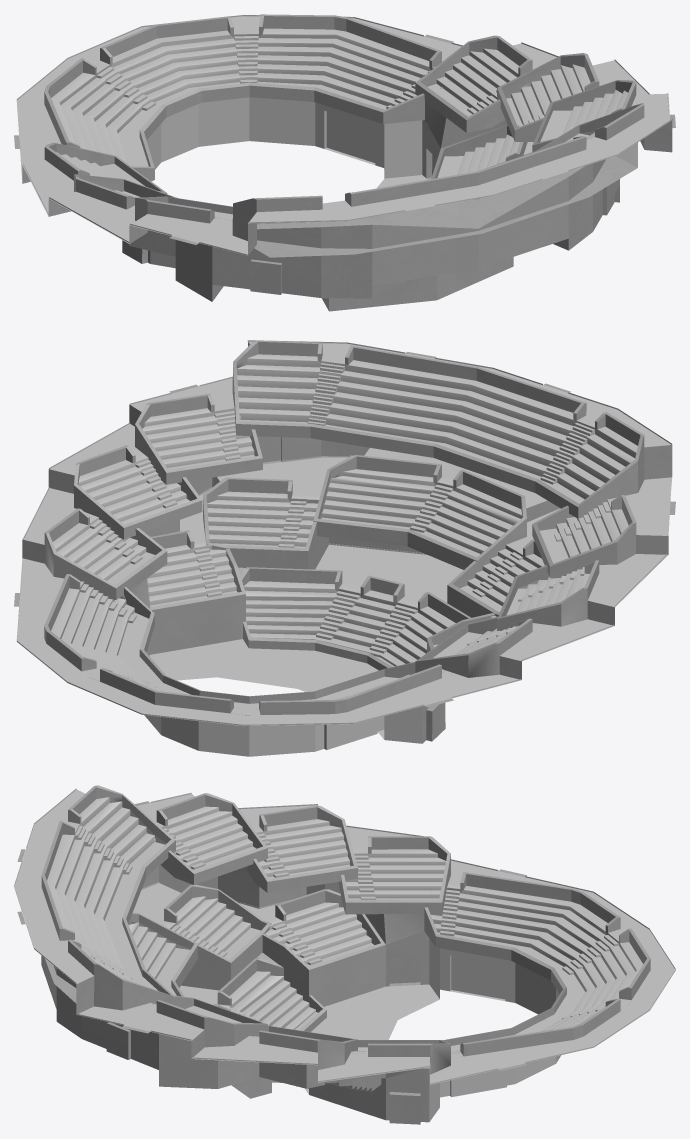
File: SM_SceneMesh_Base_02.fbx
The picture shows the model from 3 angles, top to bottom: view 1: azimuth 30°, elevation 25°; view 2: azimuth 150°, elevation 25°; view 3: azimuth 270°, elevation 25°; orthographic projection. The views are drawn at different scales.
Parts seen in each view (by area): view 1: SM_SceneMesh_Base_02_LOD0; view 2: SM_SceneMesh_Base_02_LOD0; view 3: SM_SceneMesh_Base_02_LOD0.
Part boxes in pixels (x1,y1,x2,y2): SM_SceneMesh_Base_02_LOD0: [14, 14, 675, 311]; SM_SceneMesh_Base_02_LOD0: [14, 340, 675, 756]; SM_SceneMesh_Base_02_LOD0: [14, 785, 675, 1124].
Size of the model in its own units: 5100 by 5481 by 1630.
